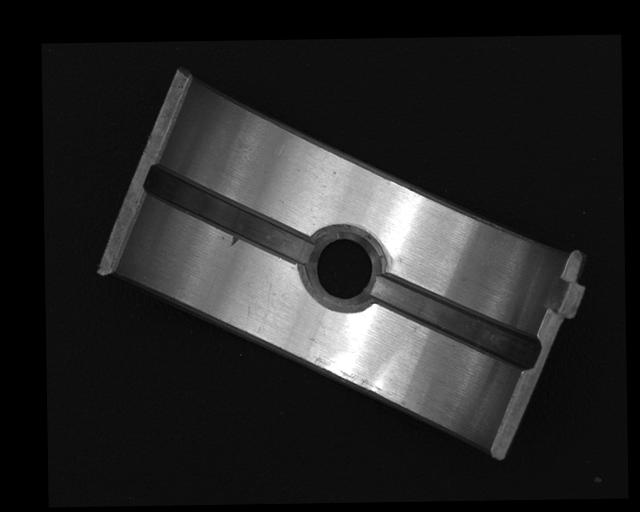bruise: (229, 236, 241, 248)
gap: (145, 163, 310, 267), (371, 273, 538, 371)
hole: (306, 228, 380, 310)
